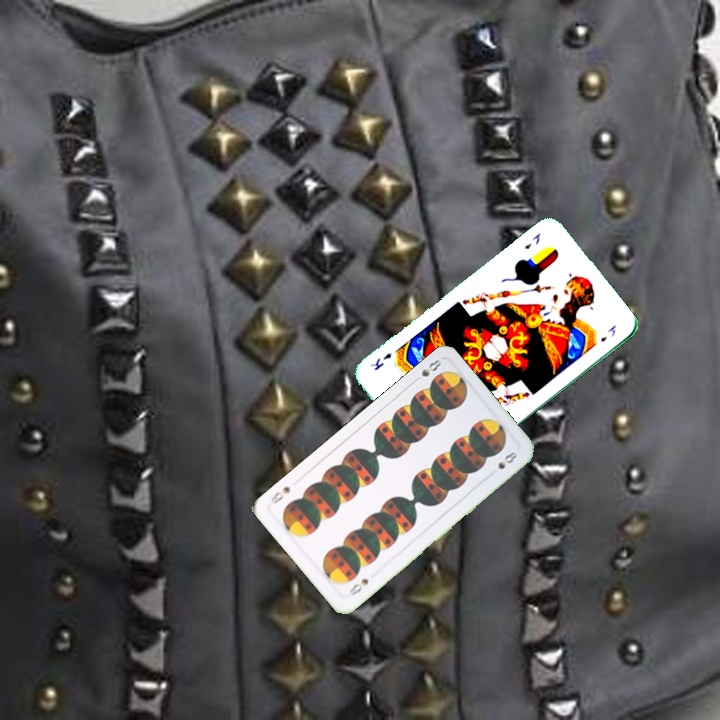EK: (520, 229, 543, 252)
S8: (409, 355, 444, 385), (345, 574, 371, 599)
